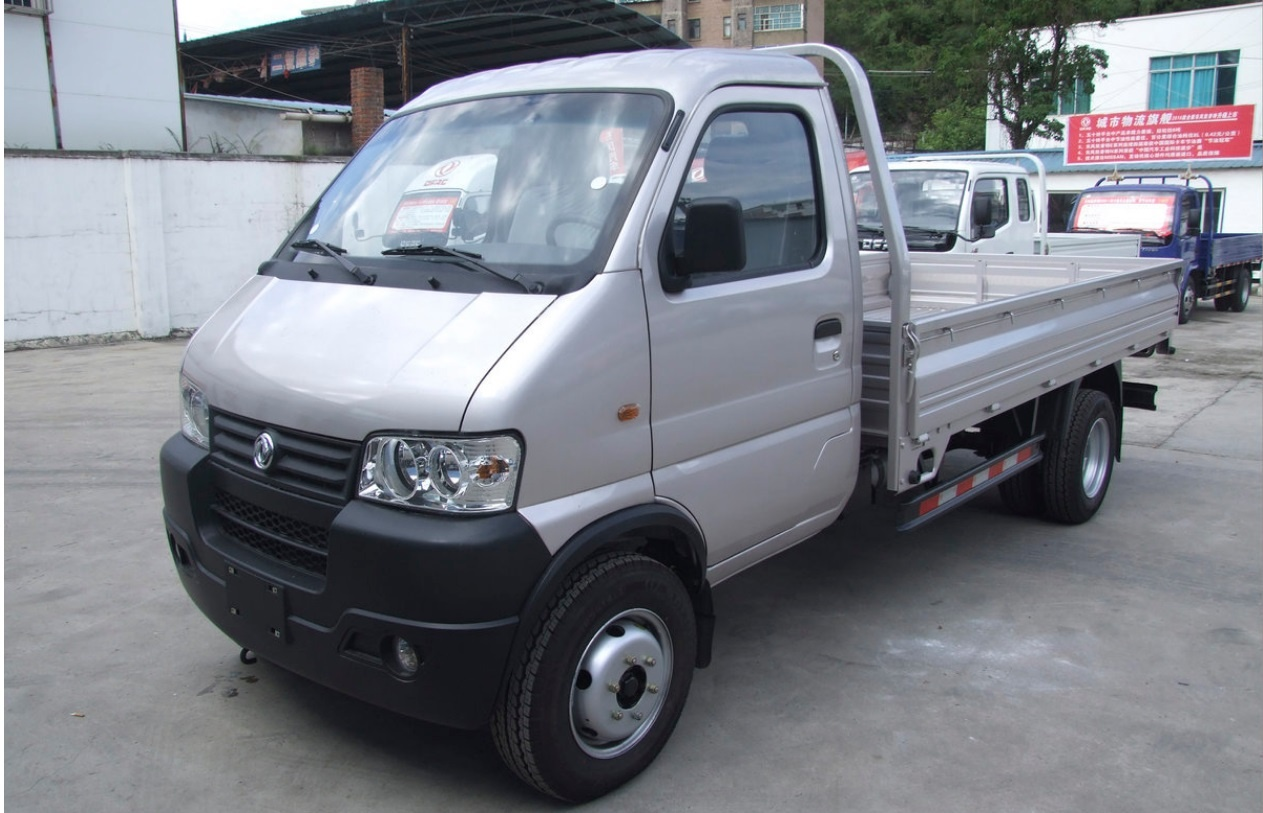truck: (175, 54, 1172, 749)
